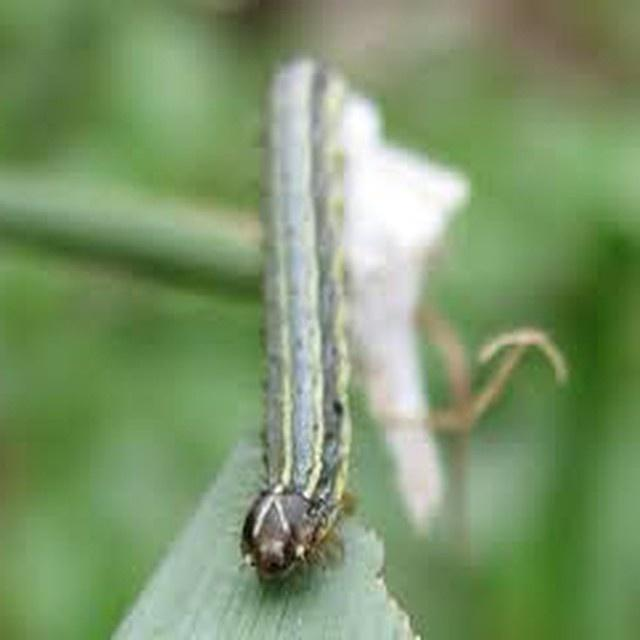gusano_cogollero: (238, 49, 354, 574)
